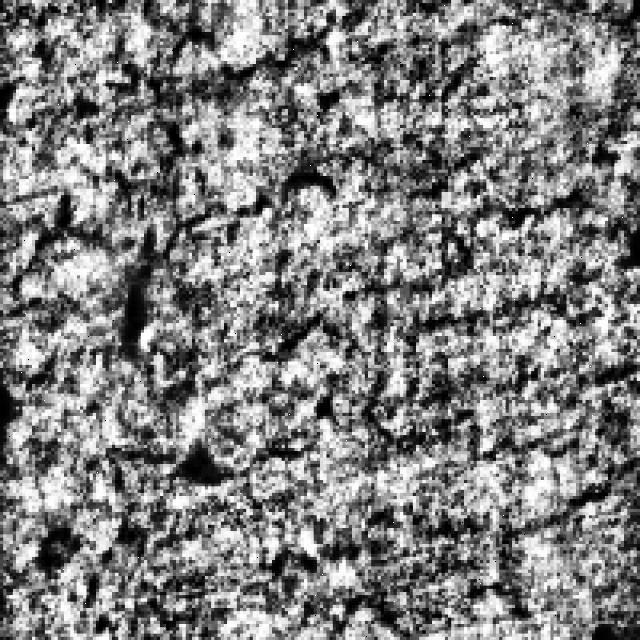Pitted_Surface: (352, 172, 608, 534), (44, 26, 340, 260), (4, 288, 342, 474)
